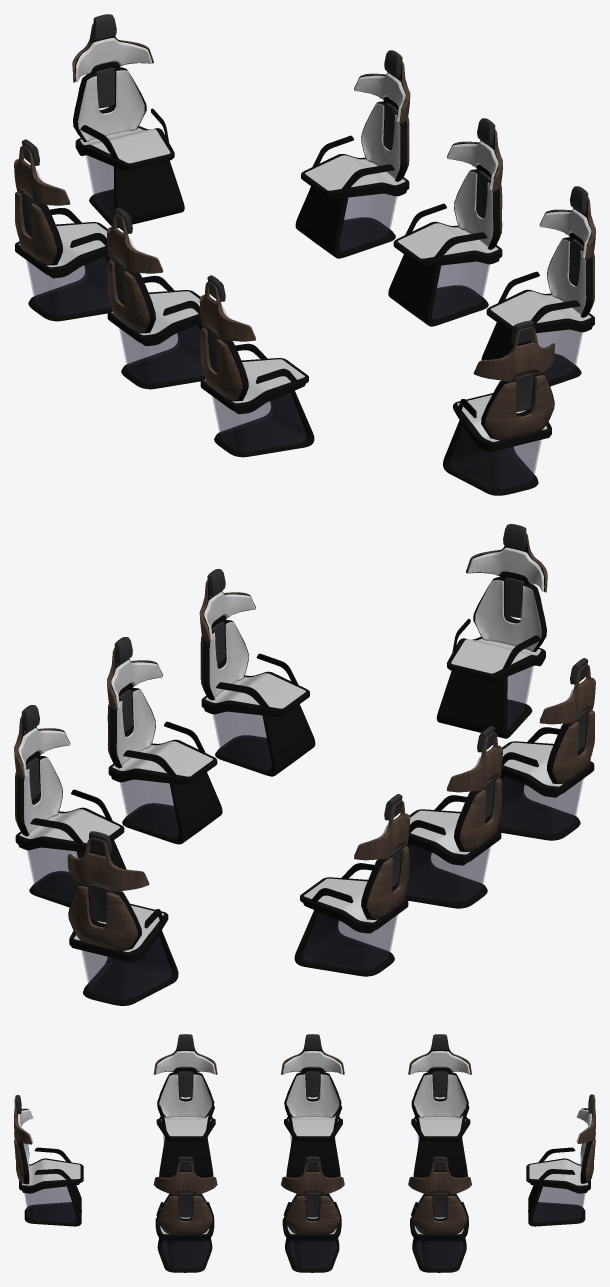
The model's file is SciFi_CR_Chairs.FBX.
3 views of the same model, one above another, from view 1: azimuth 30°, elevation 25°; view 2: azimuth 150°, elevation 25°; view 3: azimuth 270°, elevation 25° (orthographic). The views are drawn at different scales.
Visible parts, largest first — view 1: SciFi_CR_Chair_05, SciFi_CR_Chair_04, SciFi_CR_Chair_03, SciFi_CR_Chair_01, SciFi_CR_Chair_08, SciFi_CR_Chair_07, SciFi_CR_Chair_06, SciFi_CR_Chair_02; view 2: SciFi_CR_Chair_01, SciFi_CR_Chair_02, SciFi_CR_Chair_03, SciFi_CR_Chair_05, SciFi_CR_Chair_06, SciFi_CR_Chair_07, SciFi_CR_Chair_08, SciFi_CR_Chair_04; view 3: SciFi_CR_Chair_08, SciFi_CR_Chair_06, SciFi_CR_Chair_07, SciFi_CR_Chair_03, SciFi_CR_Chair_04, SciFi_CR_Chair_02, SciFi_CR_Chair_05, SciFi_CR_Chair_01.
Part boxes in pixels (left/top/right/bottom): SciFi_CR_Chair_05: left=72, top=14, right=184, bottom=228; SciFi_CR_Chair_04: left=295, top=50, right=410, bottom=258; SciFi_CR_Chair_03: left=388, top=118, right=502, bottom=326; SciFi_CR_Chair_01: left=443, top=320, right=555, bottom=495; SciFi_CR_Chair_08: left=199, top=275, right=314, bottom=457; SciFi_CR_Chair_07: left=107, top=207, right=204, bottom=389; SciFi_CR_Chair_06: left=14, top=139, right=111, bottom=321; SciFi_CR_Chair_02: left=481, top=186, right=595, bottom=386; SciFi_CR_Chair_01: left=436, top=524, right=547, bottom=738; SciFi_CR_Chair_02: left=199, top=569, right=315, bottom=776; SciFi_CR_Chair_03: left=107, top=637, right=222, bottom=844; SciFi_CR_Chair_05: left=67, top=831, right=178, bottom=1005; SciFi_CR_Chair_06: left=294, top=794, right=410, bottom=976; SciFi_CR_Chair_07: left=404, top=726, right=502, bottom=908; SciFi_CR_Chair_08: left=497, top=658, right=595, bottom=840; SciFi_CR_Chair_04: left=14, top=705, right=126, bottom=907; SciFi_CR_Chair_08: left=153, top=1034, right=217, bottom=1177; SciFi_CR_Chair_06: left=408, top=1034, right=471, bottom=1177; SciFi_CR_Chair_07: left=281, top=1034, right=344, bottom=1177; SciFi_CR_Chair_03: left=281, top=1156, right=344, bottom=1272; SciFi_CR_Chair_04: left=408, top=1156, right=471, bottom=1272; SciFi_CR_Chair_02: left=153, top=1156, right=217, bottom=1272; SciFi_CR_Chair_05: left=526, top=1094, right=595, bottom=1226; SciFi_CR_Chair_01: left=14, top=1095, right=83, bottom=1226.
Bounding box in the file's own units: 3794 × 1677 × 7436.
Materials: 6 (4 with a texture image).
